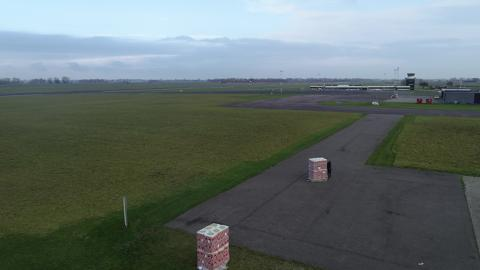RockwoolPallet: (197, 223, 231, 267)
